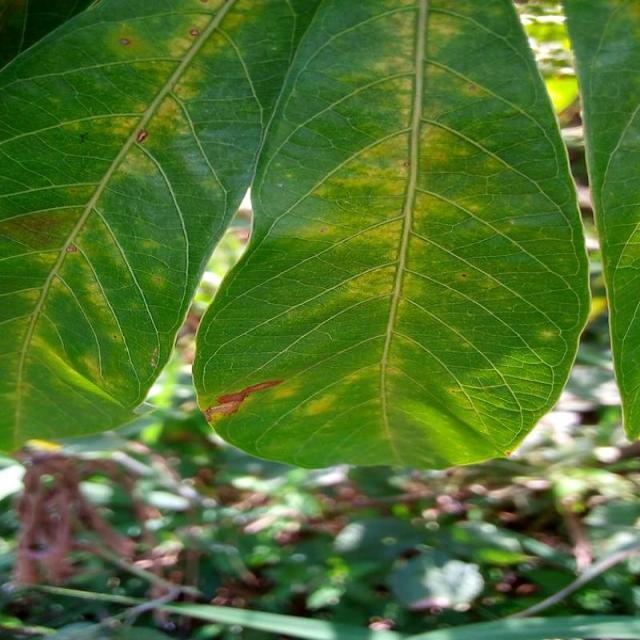cassava leaf: (190, 0, 591, 471), (0, 0, 307, 455), (560, 0, 639, 444)
